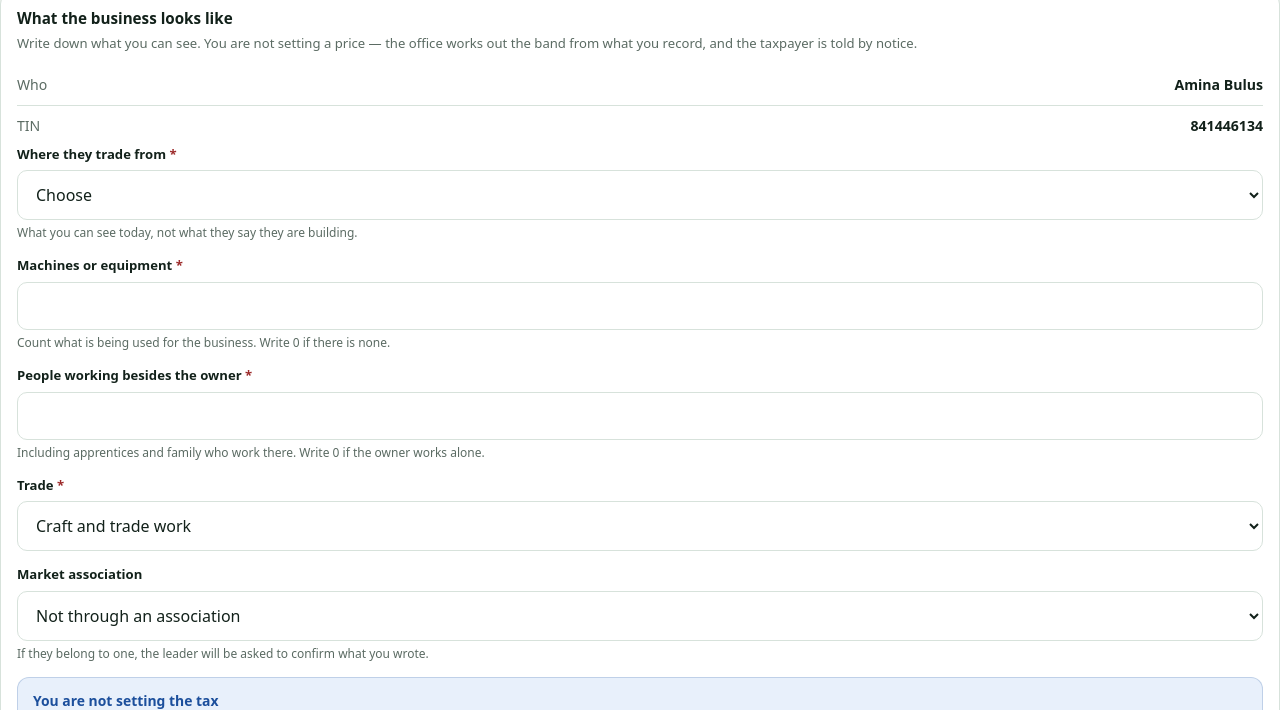
Test: writing down a stall › keeps the count on the phone when there is no signal
Select "Lock-up shop" in the dropdown labelled "Where they trade from *" at [640, 195], box left=17, top=170, right=1263, bottom=220
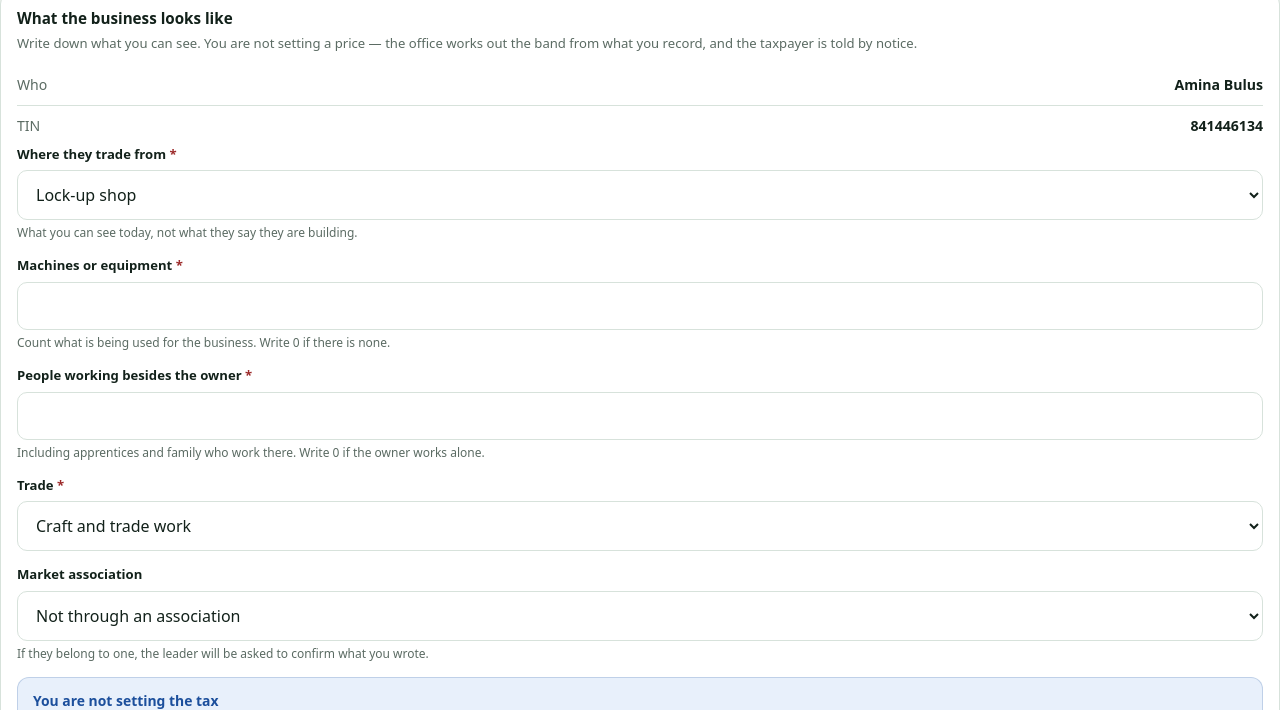
Type "3" into the number field labelled "Machines or equipment *".
click(640, 306); type("3")  # box left=17, top=282, right=1263, bottom=330
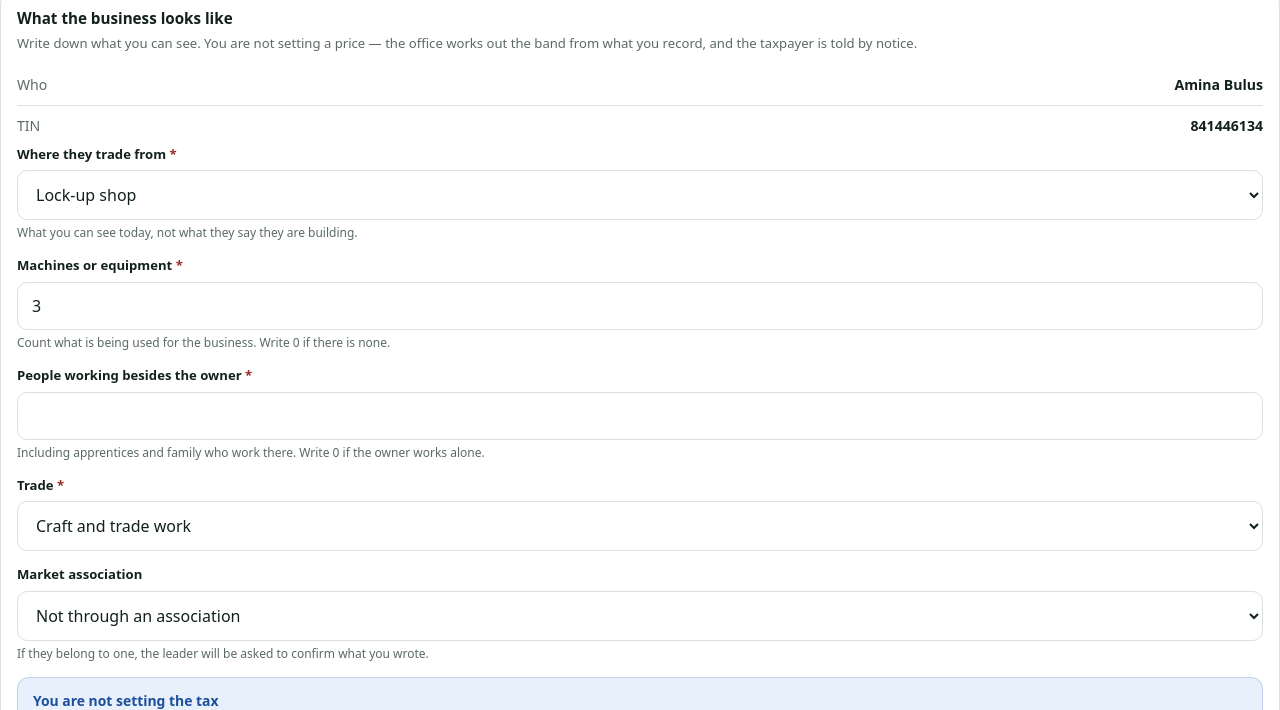
Type "2" into the number field labelled "People working besides the owner *".
click(640, 416); type("2")  # box left=17, top=392, right=1263, bottom=440
(page scrolled)
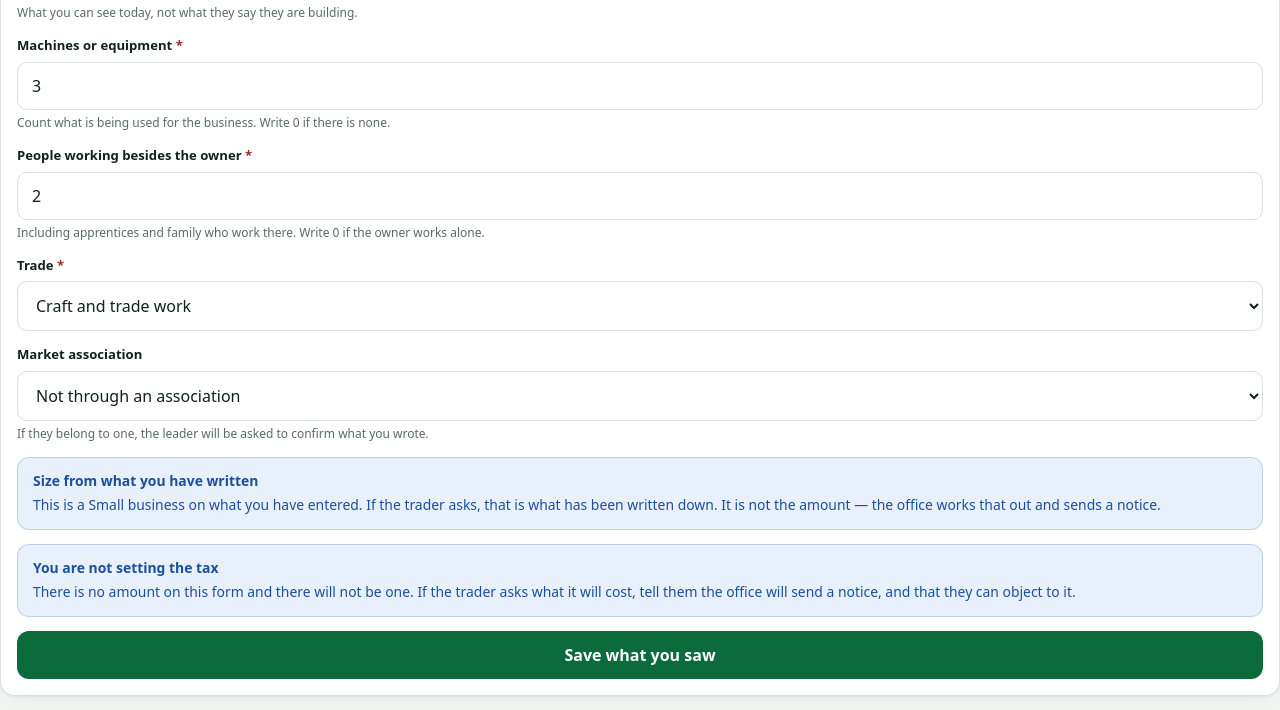
Click the button "Save what you saw".
click(640, 655)  # box left=17, top=631, right=1263, bottom=679
(page scrolled)
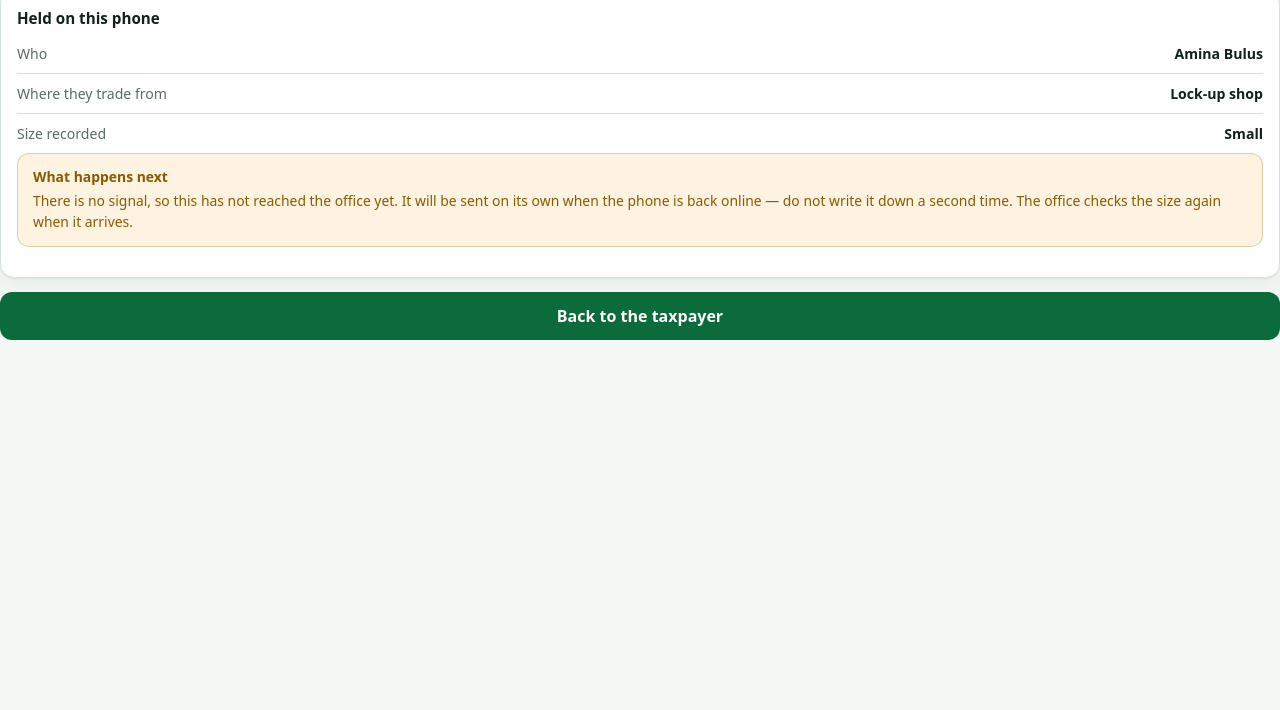
Now the heading "Held on this phone" is shown, box left=17, top=8, right=160, bottom=28
